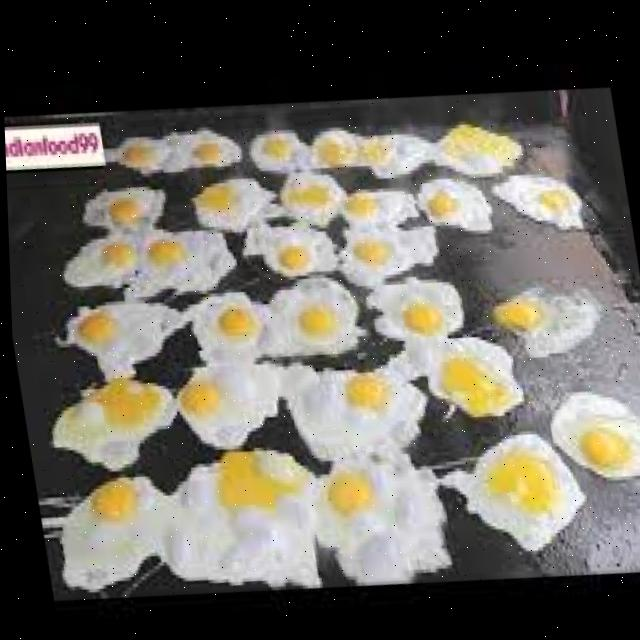Egg: (159, 448, 315, 580), (314, 456, 447, 578), (441, 430, 582, 542), (278, 362, 422, 454), (58, 474, 161, 589), (49, 377, 167, 468), (389, 329, 521, 409), (339, 184, 436, 282), (64, 299, 184, 378), (175, 363, 275, 444), (551, 383, 640, 469), (258, 272, 358, 348), (122, 227, 233, 295), (491, 279, 596, 348), (366, 270, 458, 332), (191, 291, 261, 357), (491, 167, 581, 217), (191, 174, 272, 228), (436, 116, 520, 168), (61, 236, 136, 287), (416, 172, 489, 224), (278, 168, 344, 221), (262, 223, 333, 271), (81, 187, 161, 227), (189, 127, 239, 163)
